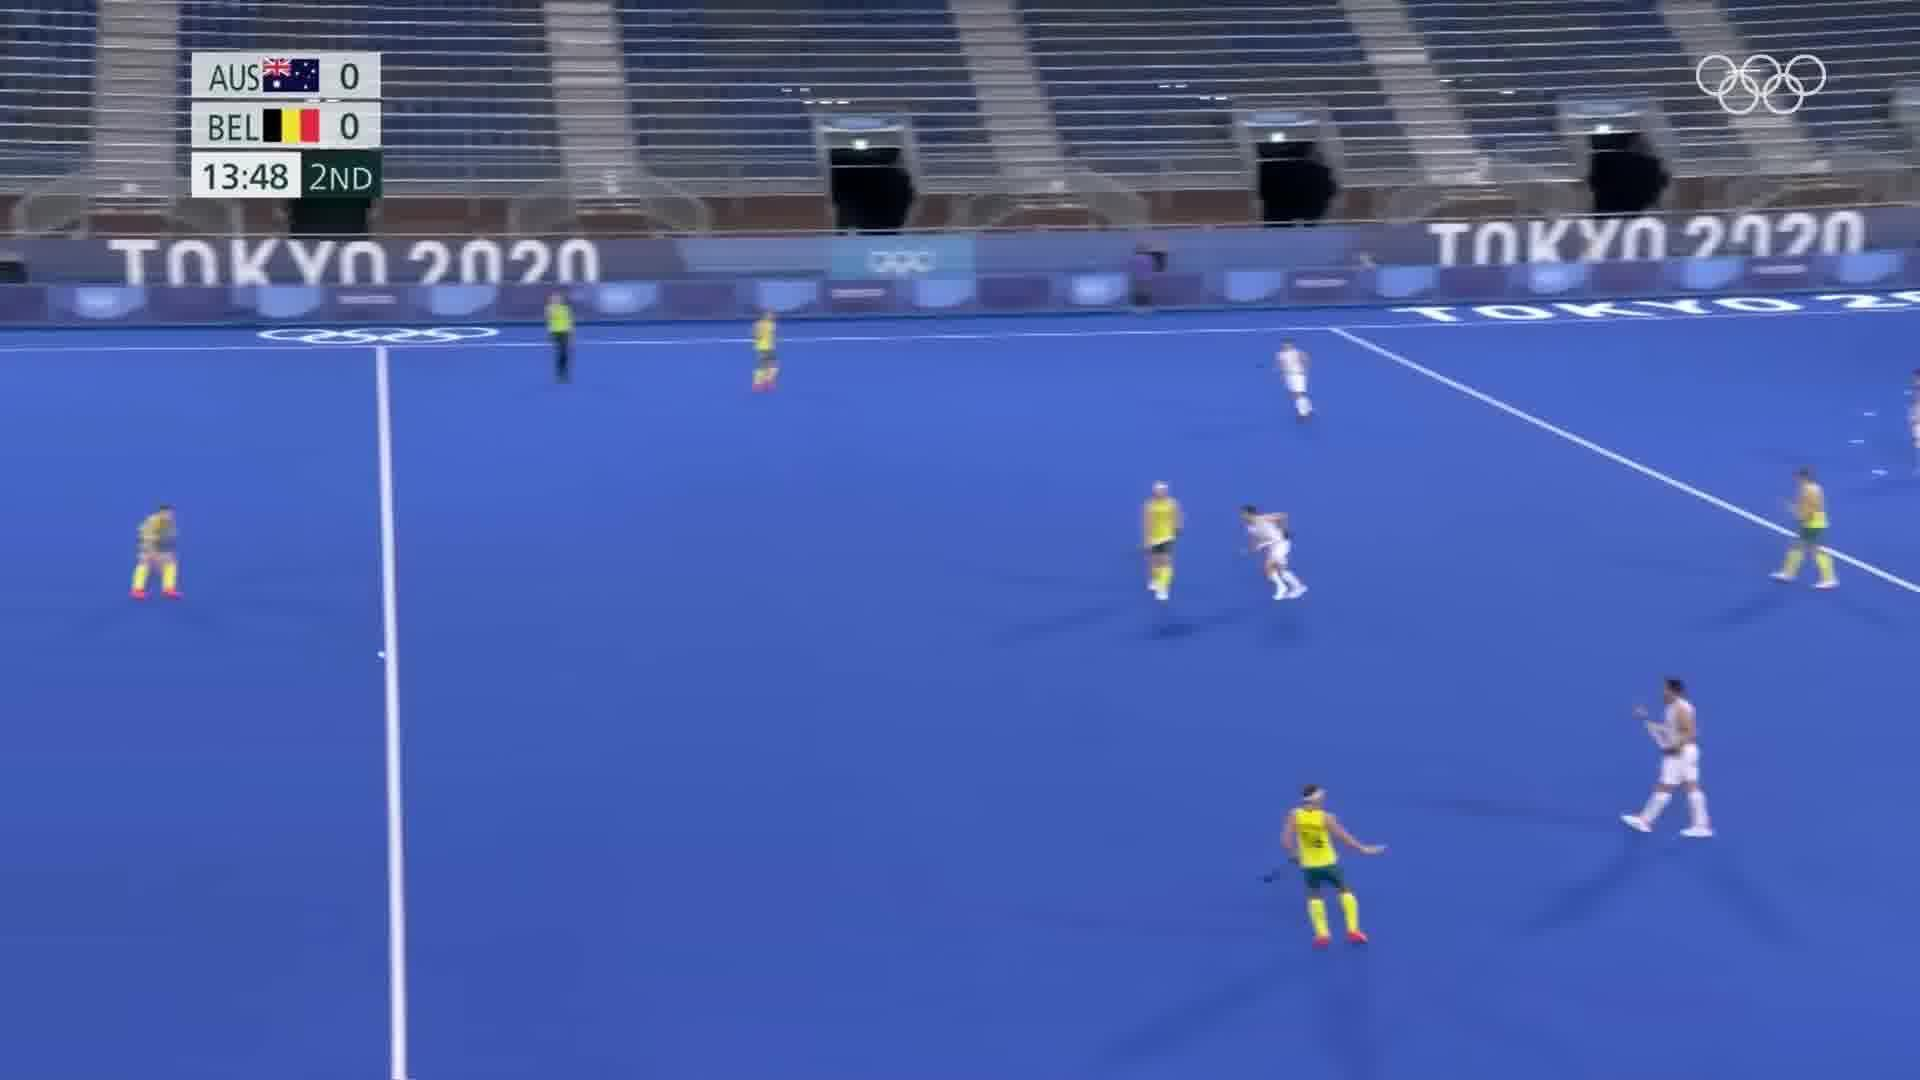ball: (364, 644, 386, 669)
